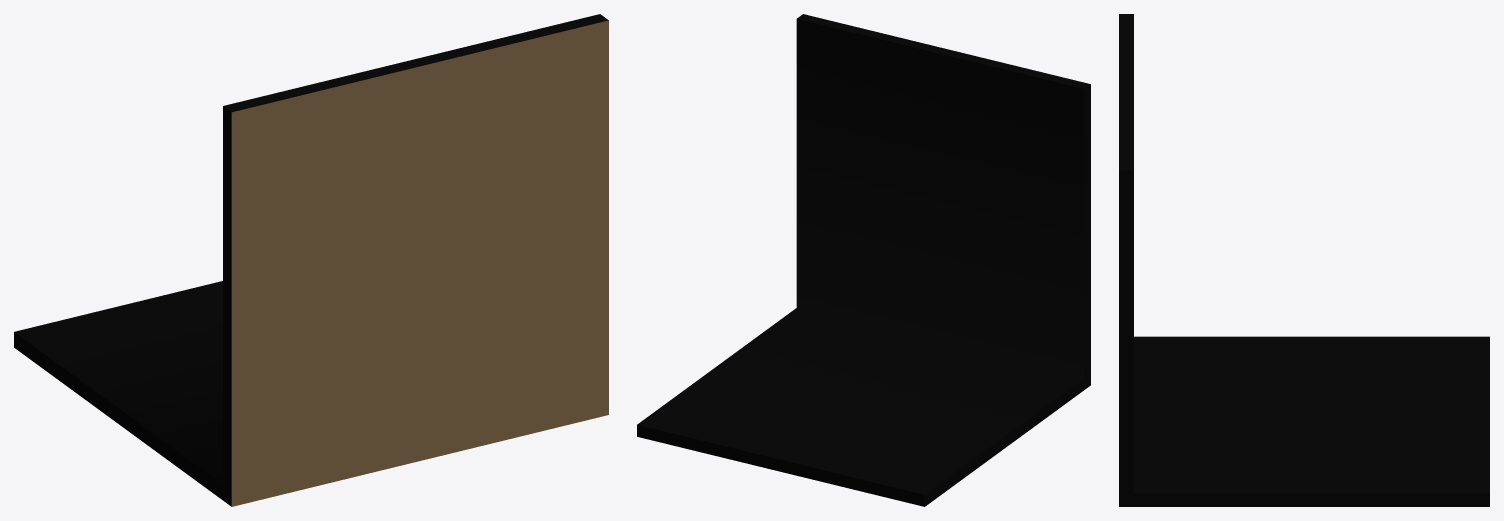
Rendered from M_Corner_Ext_5x5.fbx.
3 renders of one model, left to right at view 1: azimuth 30°, elevation 25°; view 2: azimuth 150°, elevation 25°; view 3: azimuth 270°, elevation 25°, orthographic. The views are drawn at different scales.
Visible parts, largest first — view 1: M_Corner_Ext_5x5; view 2: M_Corner_Ext_5x5; view 3: M_Corner_Ext_5x5.
Part boxes in pixels (x1,y1,x2,y2): M_Corner_Ext_5x5: (14,14,608,506); M_Corner_Ext_5x5: (637,14,1090,506); M_Corner_Ext_5x5: (1119,14,1489,506).
Bounding box in the file's own units: 500 × 500 × 500.
